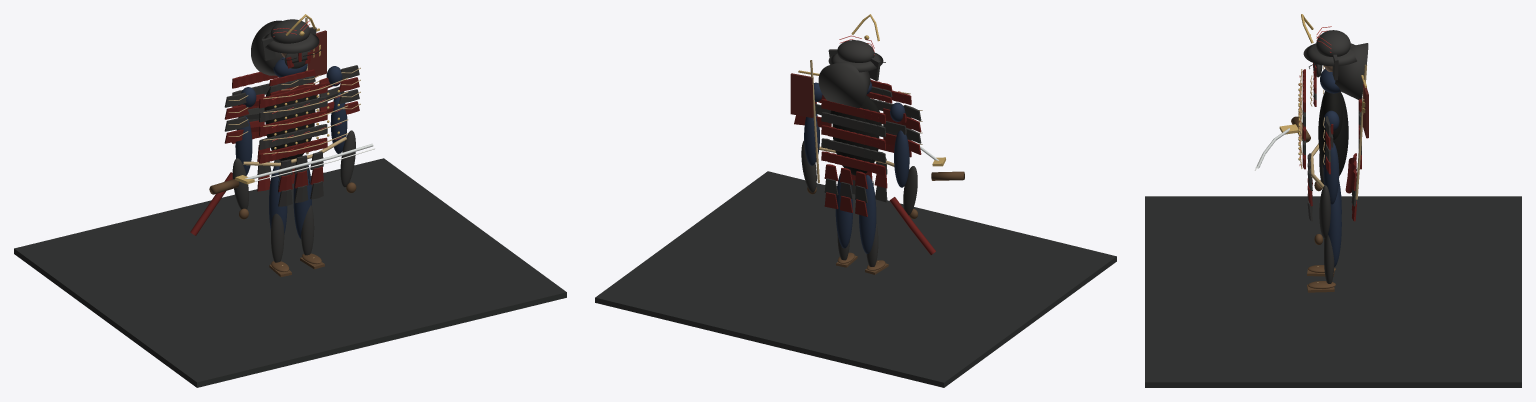
The model's file is samurai_character.glb.
The picture shows the model from 3 angles, left to right: view 1: azimuth 30°, elevation 25°; view 2: azimuth 150°, elevation 25°; view 3: azimuth 270°, elevation 25°; orthographic projection. The views are drawn at different scales.
Visible parts, largest first — view 1: matte charcoal inspection plinth, rear shikoro neck guard flare, segmented kabuto helmet bowl, tapered torso under robe volume, right armored upper arm, wide kabuto brim, left hakama trouser leg, right kote forearm guard, cloth sashimono banner panel, right hakama trouser leg, left armored upper arm, left shin greave (+2 smaller); view 2: matte charcoal inspection plinth, rear shikoro neck guard flare, cloth sashimono banner panel, left hakama trouser leg, tapered torso under robe volume, left armored upper arm, segmented kabuto helmet bowl, right hakama trouser leg, right armored upper arm, left kote forearm guard, lacquered saya scabbard at left hip, right kote forearm guard; view 3: matte charcoal inspection plinth, rear shikoro neck guard flare, tapered torso under robe volume, segmented kabuto helmet bowl, right hakama trouser leg, wide kabuto brim, right armored upper arm, shadowed upper do armor underframe, right kote forearm guard, right shin greave, bamboo sashimono back pole, neck guard cloth.
Part boxes in pixels (bbox=[...]): matte charcoal inspection plinth: bbox=[14, 158, 566, 387]; rear shikoro neck guard flare: bbox=[251, 20, 283, 75]; segmented kabuto helmet bowl: bbox=[270, 19, 310, 43]; tapered torso under robe volume: bbox=[265, 98, 315, 160]; right armored upper arm: bbox=[330, 93, 347, 153]; wide kabuto brim: bbox=[261, 33, 319, 53]; left hakama trouser leg: bbox=[269, 162, 287, 234]; right kote forearm guard: bbox=[340, 130, 355, 187]; cloth sashimono banner panel: bbox=[308, 30, 326, 76]; right hakama trouser leg: bbox=[293, 165, 311, 239]; left armored upper arm: bbox=[235, 116, 252, 175]; left shin greave: bbox=[271, 213, 284, 262]; matte charcoal inspection plinth: bbox=[595, 171, 1116, 387]; rear shikoro neck guard flare: bbox=[818, 61, 870, 108]; cloth sashimono banner panel: bbox=[790, 73, 813, 117]; left hakama trouser leg: bbox=[859, 175, 876, 253]; tapered torso under robe volume: bbox=[832, 112, 879, 175]; left armored upper arm: bbox=[894, 130, 909, 187]; segmented kabuto helmet bowl: bbox=[837, 40, 874, 62]; right hakama trouser leg: bbox=[835, 173, 852, 248]; right armored upper arm: bbox=[804, 114, 819, 165]; left kote forearm guard: bbox=[903, 166, 917, 215]; lacquered saya scabbard at left hip: bbox=[889, 197, 935, 254]; right kote forearm guard: bbox=[801, 140, 816, 192]; matte charcoal inspection plinth: bbox=[1145, 196, 1521, 387]; rear shikoro neck guard flare: bbox=[1335, 43, 1368, 99]; tapered torso under robe volume: bbox=[1318, 91, 1348, 175]; segmented kabuto helmet bowl: bbox=[1316, 30, 1350, 56]; right hakama trouser leg: bbox=[1328, 189, 1341, 267]; wide kabuto brim: bbox=[1303, 43, 1356, 66]; right armored upper arm: bbox=[1323, 142, 1339, 204]; shadowed upper do armor underframe: bbox=[1321, 91, 1342, 139]; right kote forearm guard: bbox=[1319, 185, 1330, 238]; right shin greave: bbox=[1324, 235, 1334, 283]; bamboo sashimono back pole: bbox=[1355, 64, 1366, 199]; neck guard cloth: bbox=[1320, 68, 1340, 93].
Bounding box in the file's own units: 4.2 × 2.96 × 3.6.
